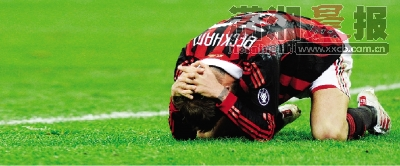fall: (155, 3, 400, 145)
